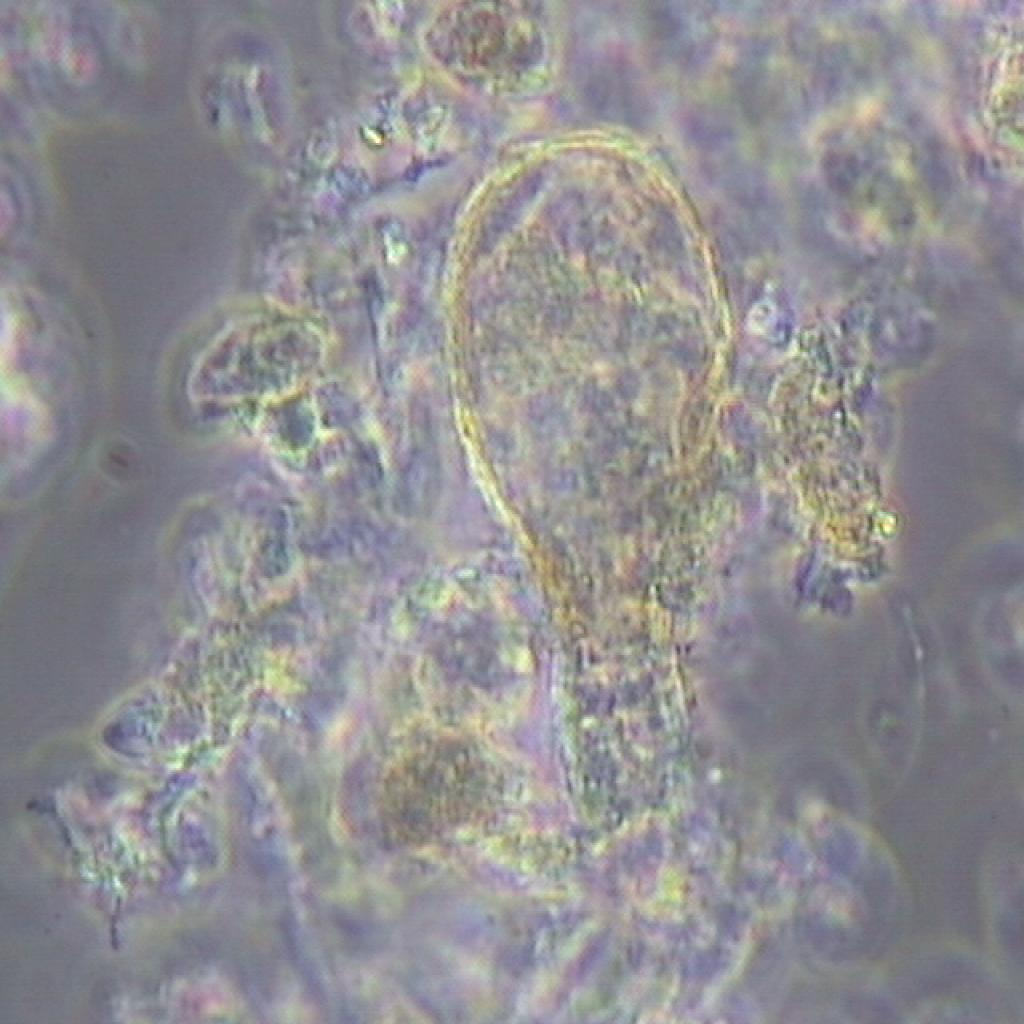Chaetopira: (434, 120, 752, 834)
